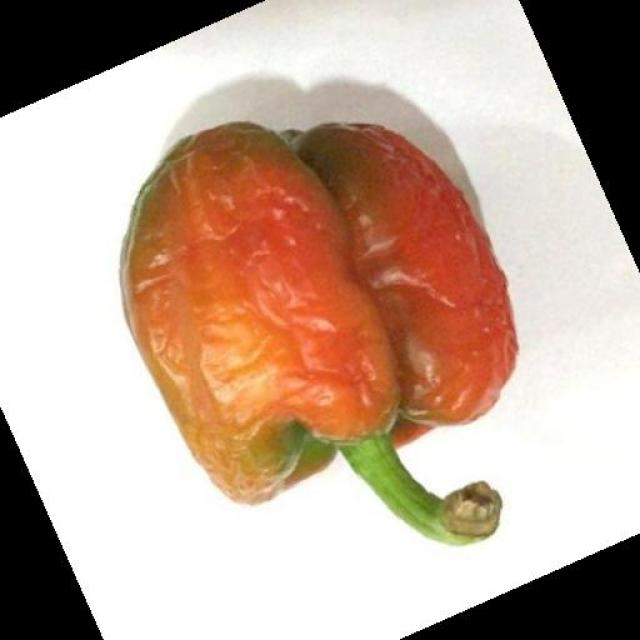Stale_Capsicum: (126, 94, 550, 540)
